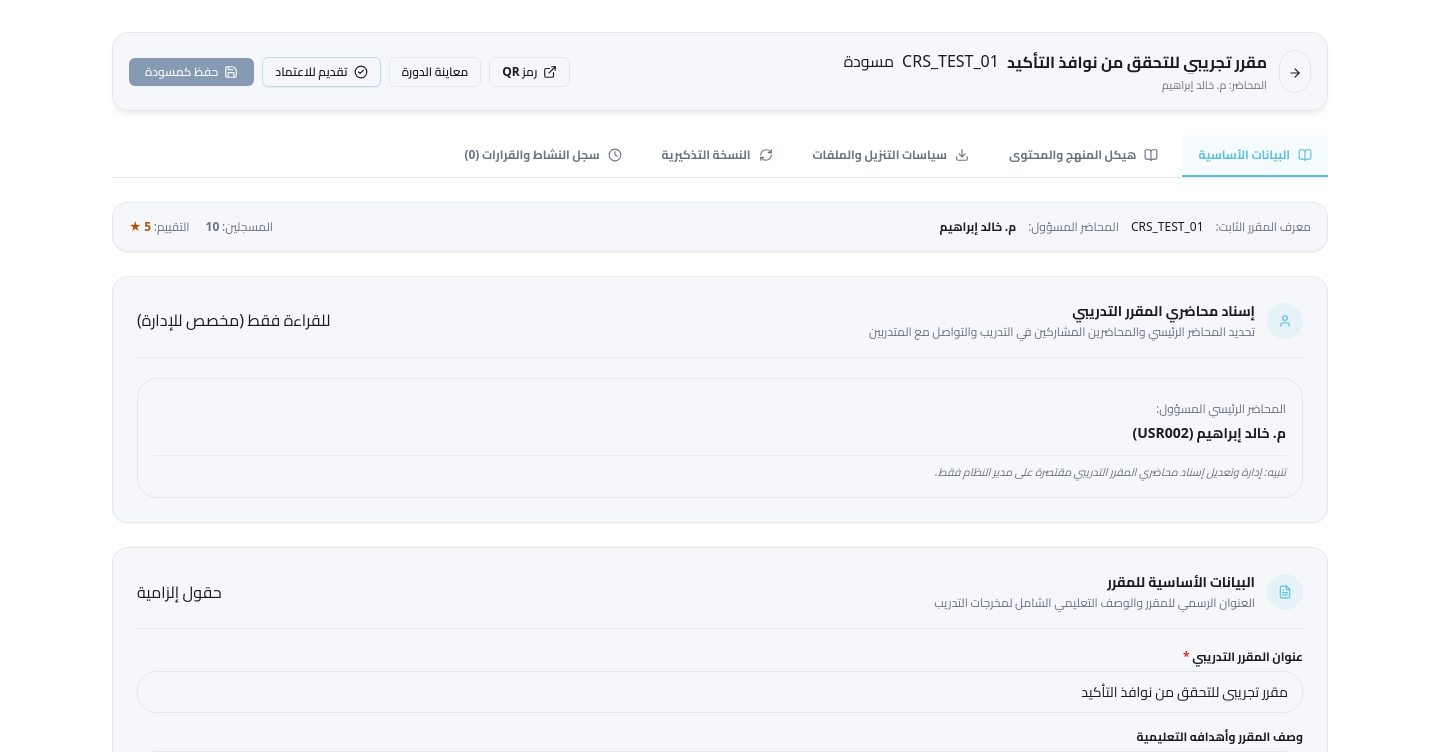
Scenario: Phase 2 Verification: Standardized ConfirmDialog & Course Authoring Flows › CourseBuilderPage Confirmation Flows › opens styled ConfirmDialog when back button is clicked with unsaved changes
// Make a change in metadata to make the form dirty
Replace the text in the field showing "مقرر تجريبي للتحقق من نوافذ التأكيد" with "عنوان جديد غير محفوظ" at (720, 692), box [137,671,1303,713]
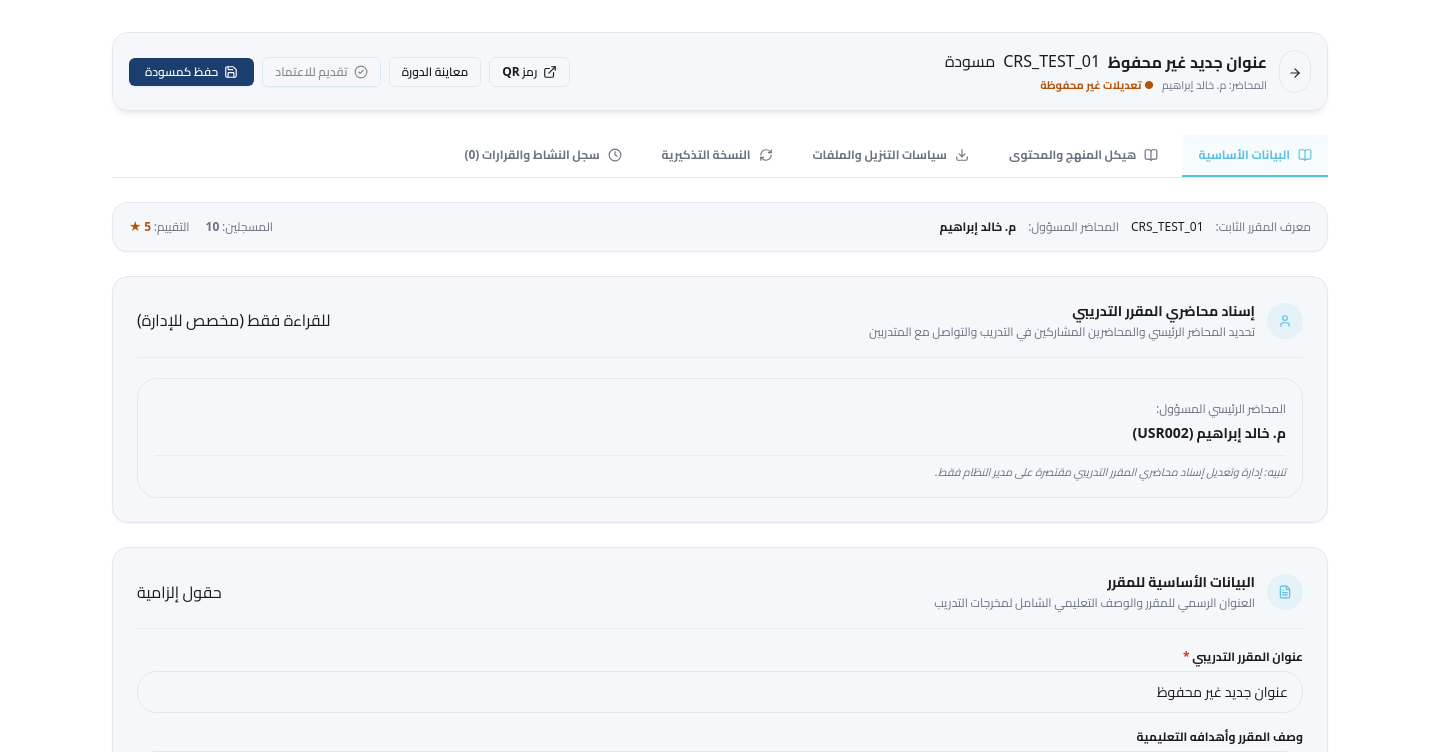
Expected: the text "● تعديلات غير محفوظة" is shown, [1040,77,1154,94]
// Click back button
Click the button with test id "builder-back-btn" at (1295, 72), box [1279,50,1311,93]
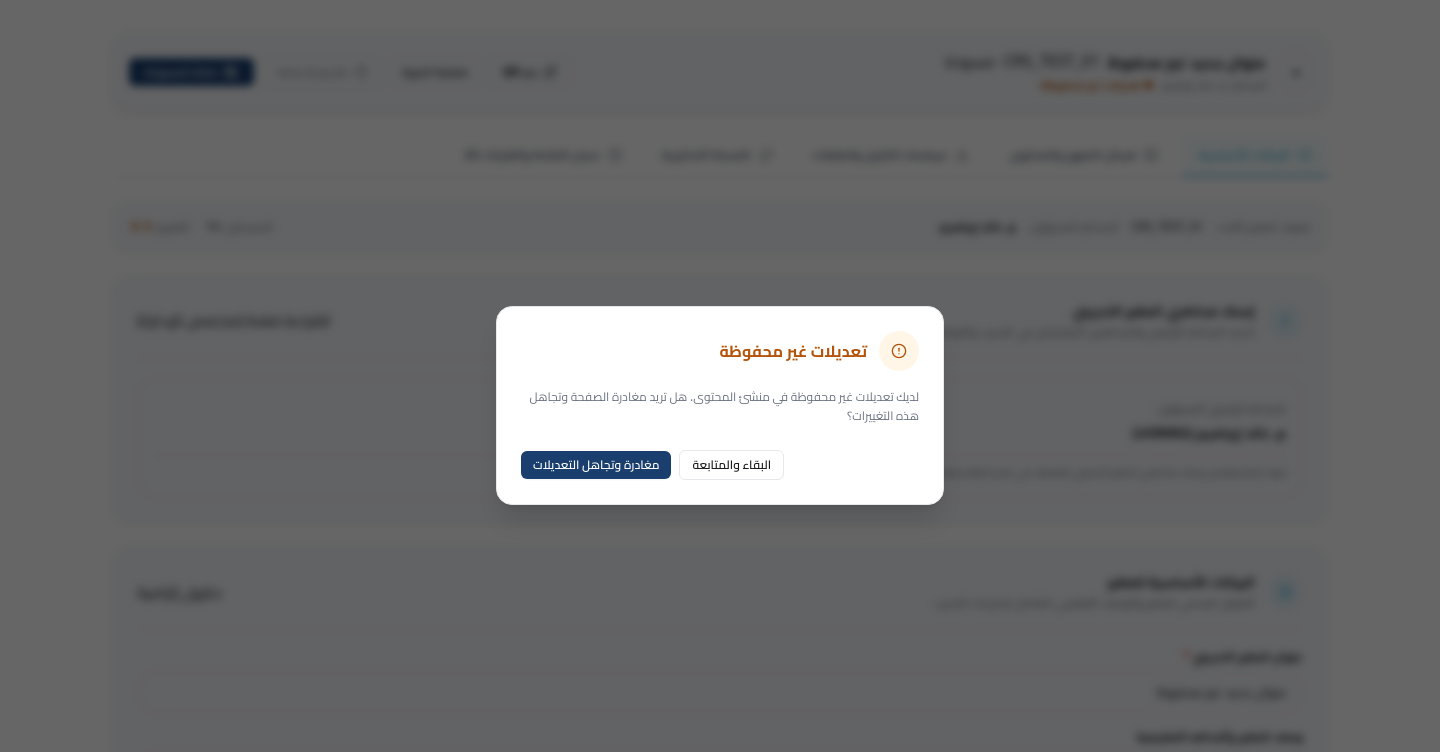
Expected: the heading with test id "confirm-dialog-title" reads "تعديلات غير محفوظة", [719,336,867,366]
Expected: the text with test id "confirm-dialog-message" shows "لديك تعديلات غير محفوظة في منشئ المحتوى. هل تريد مغادرة الصفحة وتجاهل هذه التغييرات؟", [530,384,919,427]
Expected: the button with test id "confirm-cancel-btn" reads "البقاء والمتابعة"
// Click "البقاء والمتابعة" (Cancel)
Click the button with test id "confirm-cancel-btn" at (732, 464), box [679,450,784,480]
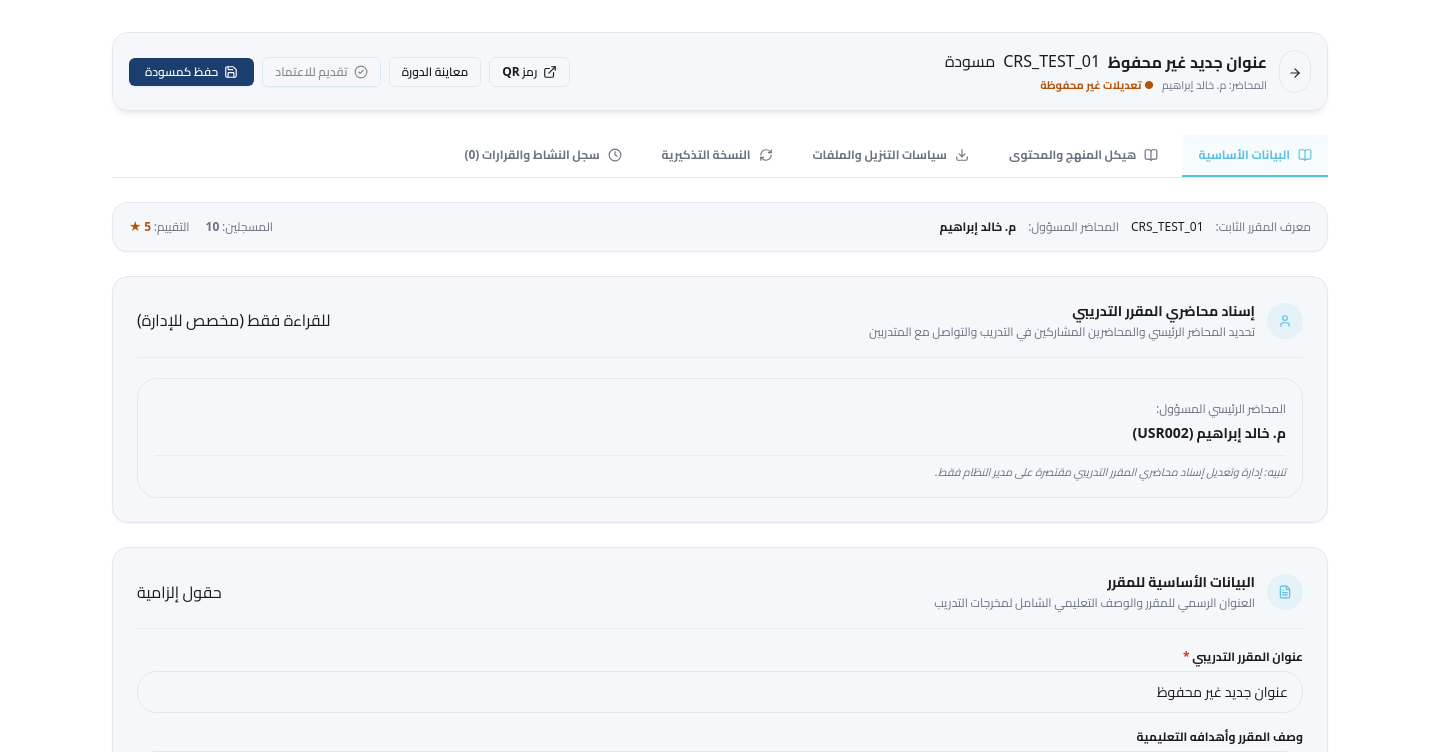
Expected: the heading with test id "confirm-dialog-title" is gone
